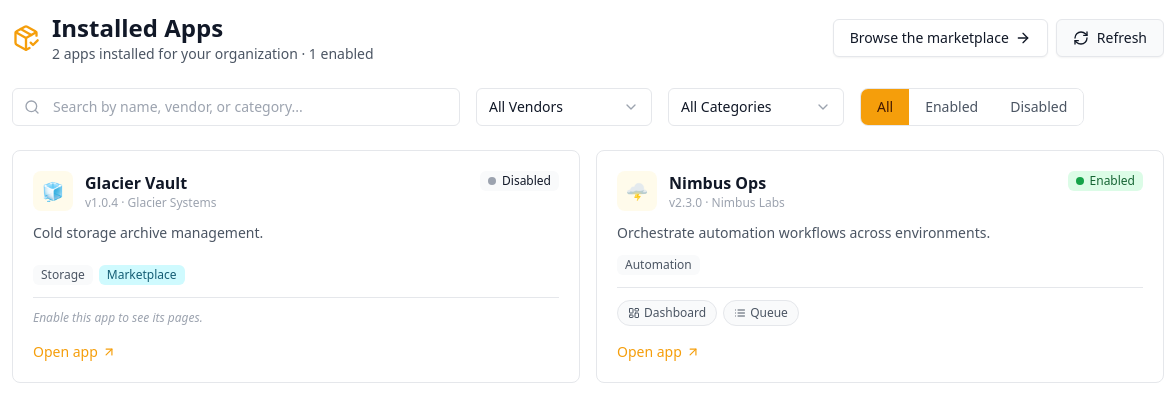
it: InstalledAppsPage › filters by enabled state
Expected: the heading "Glacier Vault" is shown, [85,172,187,194]
Click the button "disabled": (1039, 107) [994,89,1083,125]
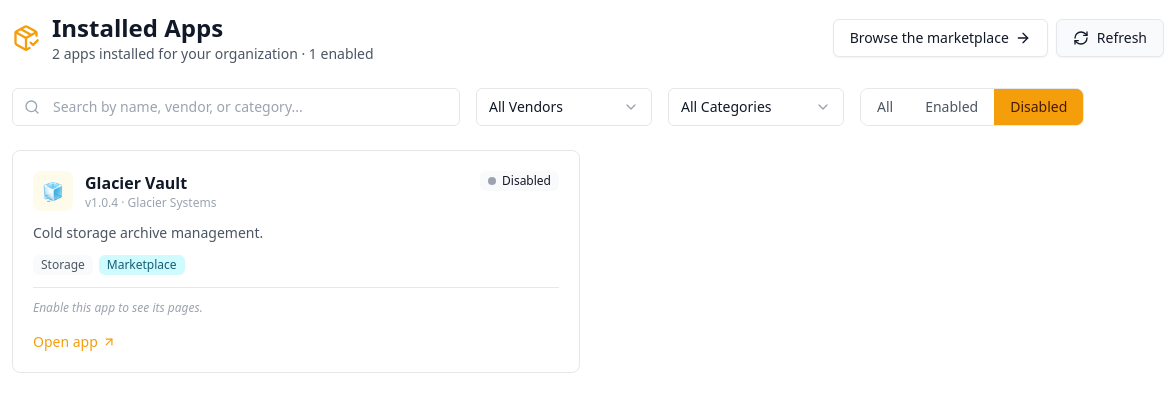
Expected: the heading "Glacier Vault" is shown, [85,172,187,194]
Result: the link "Nimbus Ops" is gone
